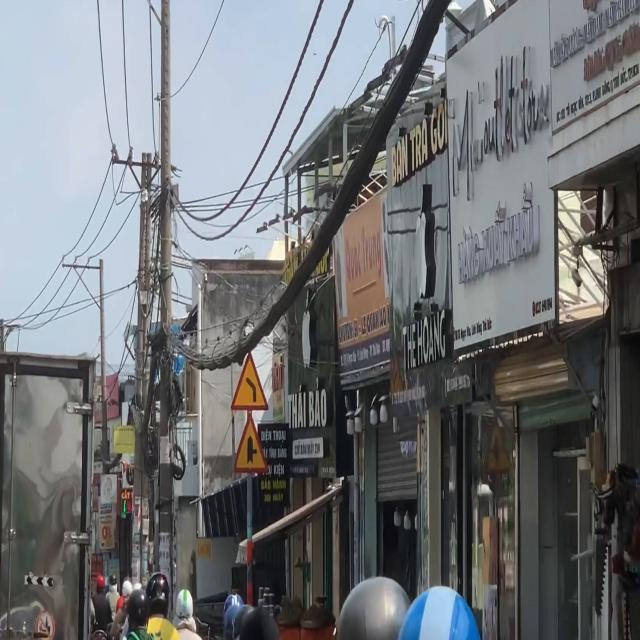Giao voi duong khong uu tien: (233, 414, 269, 473)
Nguy hiem: (230, 350, 270, 412)
